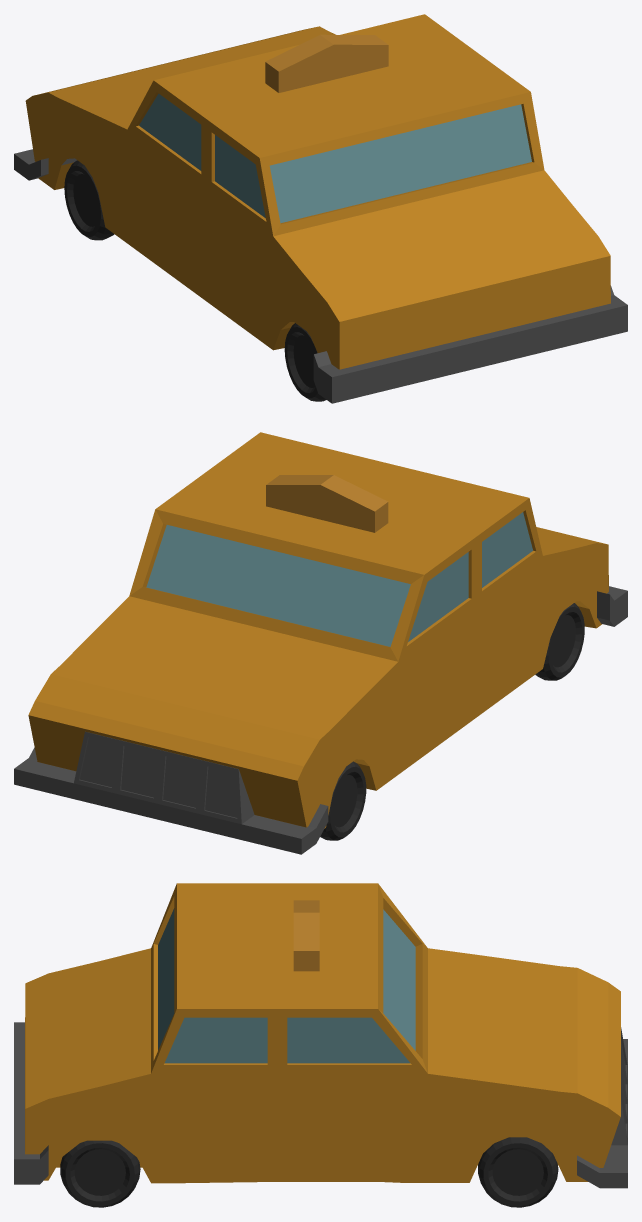
Rendered from taxiCar.fbx.
The picture shows the model from 3 angles, top to bottom: view 1: azimuth 30°, elevation 25°; view 2: azimuth 150°, elevation 25°; view 3: azimuth 270°, elevation 25°; orthographic projection. The views are drawn at different scales.
Parts seen in each view (by area): view 1: taxi; view 2: taxi; view 3: taxi.
Part boxes in pixels (left/top/right/bottom): taxi: left=14, top=14, right=627, bottom=403; taxi: left=14, top=432, right=627, bottom=854; taxi: left=14, top=883, right=627, bottom=1207.
Bounding box in the file's own units: 5.39 × 4.34 × 10.21.
